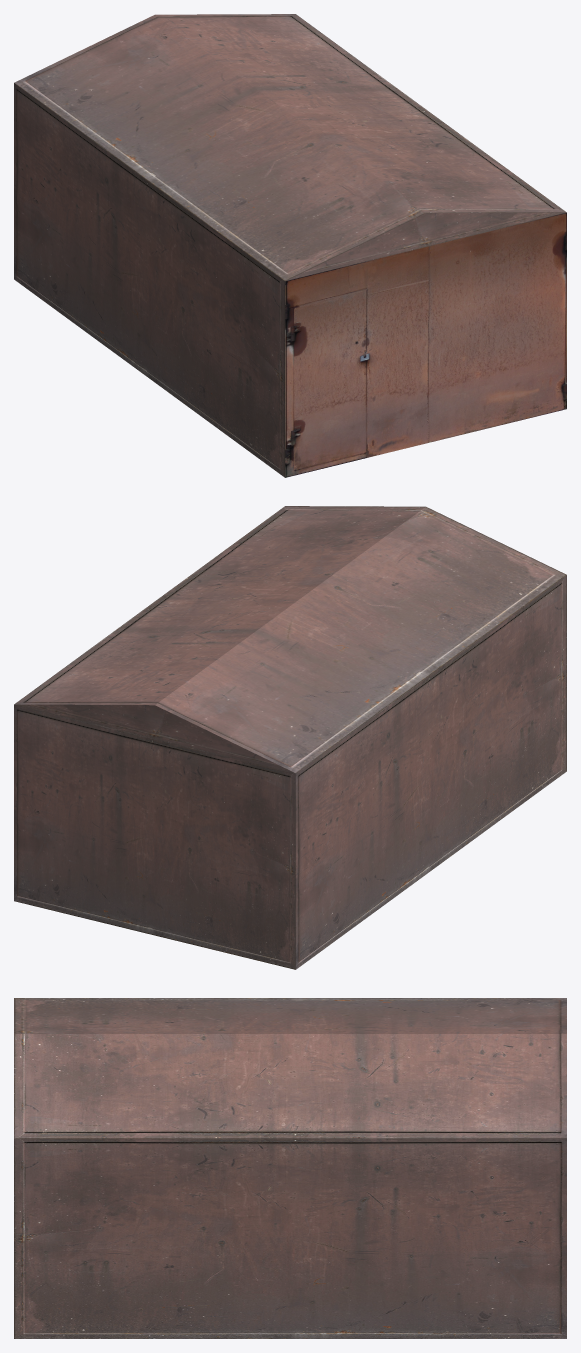
Rendered from garage01.fbx.
3 renders of one model, top to bottom at view 1: azimuth 30°, elevation 25°; view 2: azimuth 150°, elevation 25°; view 3: azimuth 270°, elevation 25°, orthographic.
Visible parts, largest first — view 1: Cube; view 2: Cube; view 3: Cube.
Part boxes in pixels (<box>): Cube: <box>14,14,566,477</box>; Cube: <box>14,506,566,969</box>; Cube: <box>14,998,566,1338</box>.
Size of the model in its own units: 600 by 469 by 1000.
